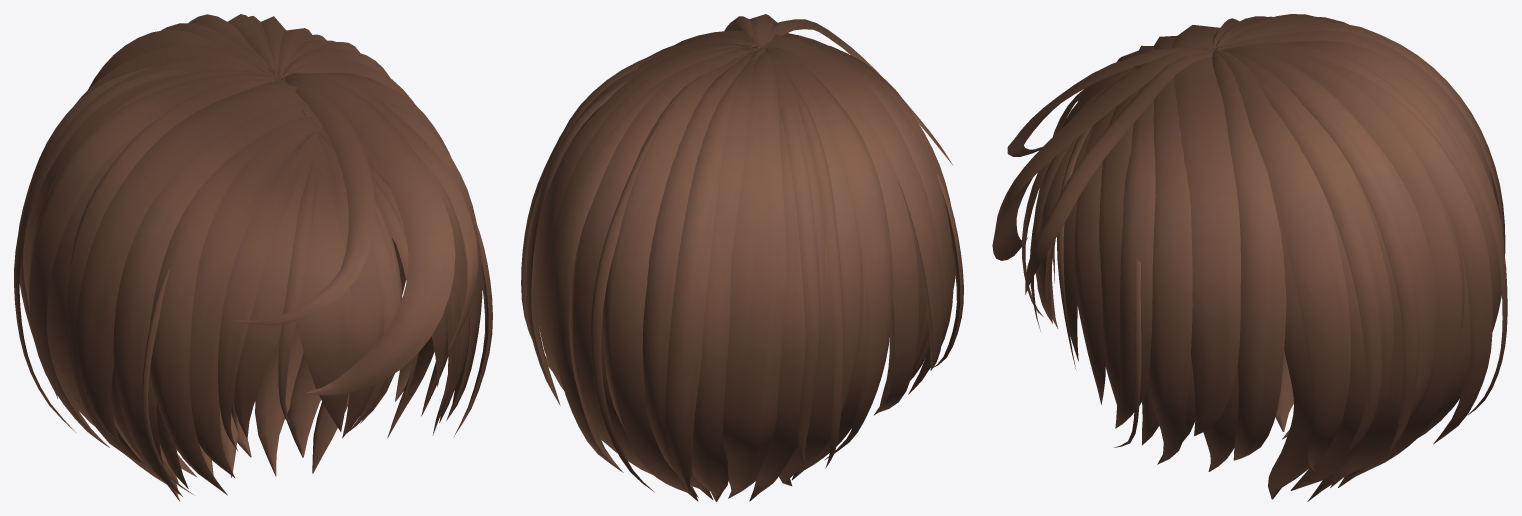
Rendered from vroid_hair3.glb.
3 views of the same model, side by side, from view 1: azimuth 30°, elevation 25°; view 2: azimuth 150°, elevation 25°; view 3: azimuth 270°, elevation 25° (orthographic). The views are drawn at different scales.
Parts seen in each view (by area): view 1: hair; view 2: hair; view 3: hair.
Part boxes in pixels (bbox=[...]): hair: bbox=[14, 14, 492, 501]; hair: bbox=[521, 14, 963, 501]; hair: bbox=[992, 14, 1507, 501].
Size of the model in its own units: 0.21 by 0.2399 by 0.2509.
1 material, 1 textured.
